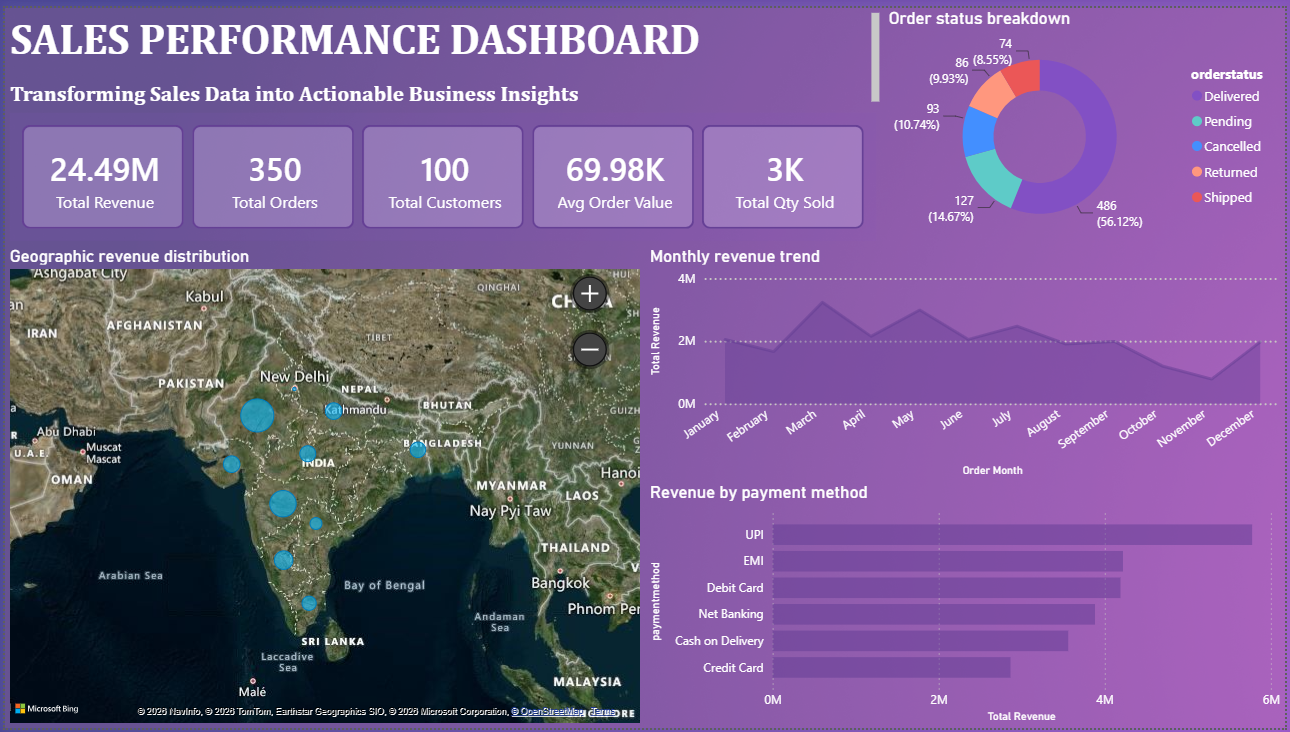

The dashboard page shown, as its layout file describes it:
{"tool":"powerbi","page":{"name":"Page 1","canvas":[1280,720],"ordinal":0},"visuals":[{"type":"lineChart","title":"Monthly revenue trend","fields":{"Y":["project orders.Total Revenue"],"Category":["project orders.orderdate.Variation.Date Hierarchy.Month"]},"box":[640,237.5,640,236.2],"z":0},{"type":"donutChart","title":"Order status breakdown","fields":{"Category":["project orders.orderstatus"],"Y":["CountNonNull(project orderitem.orderID)"]},"box":[878.8,0,401.2,238.8],"z":1000},{"type":"barChart","title":"Revenue by payment method","fields":{"Y":["project orders.Total Revenue"],"Category":["project orders.paymentmethod"]},"box":[640,473.8,640,246.2],"z":2000},{"type":"map","title":"Geographic revenue distribution","fields":{"Category":["project orders.ShippingState"],"Size":["project orders.Total Revenue"]},"box":[0,237.5,640,482.5],"z":3000},{"type":"cardVisual","title":"Sales KPI''S","fields":{"Data":["project orders.Total Revenue","project orders.Total Orders","project orders.Total Customers","project orders.Avg Order Value","project orders.Total Qty Sold"]},"box":[0,100,878.8,138.8],"z":4000},{"type":"textbox","box":[0,0,879.2,108.8],"z":5000}]}

Visuals, with their boxes in screenshot pixels (x1, y1, x2, y2), scaled from the page's 1280x720 canvas onto the 1290x732 screenshot:
"Monthly revenue trend" lineChart: left=645, top=241, right=1289, bottom=482
"Order status breakdown" donutChart: left=886, top=0, right=1289, bottom=243
"Revenue by payment method" barChart: left=645, top=482, right=1289, bottom=731
"Geographic revenue distribution" map: left=0, top=241, right=645, bottom=731
"Sales KPI''S" cardVisual: left=0, top=102, right=886, bottom=243
textbox: left=0, top=0, right=886, bottom=111
